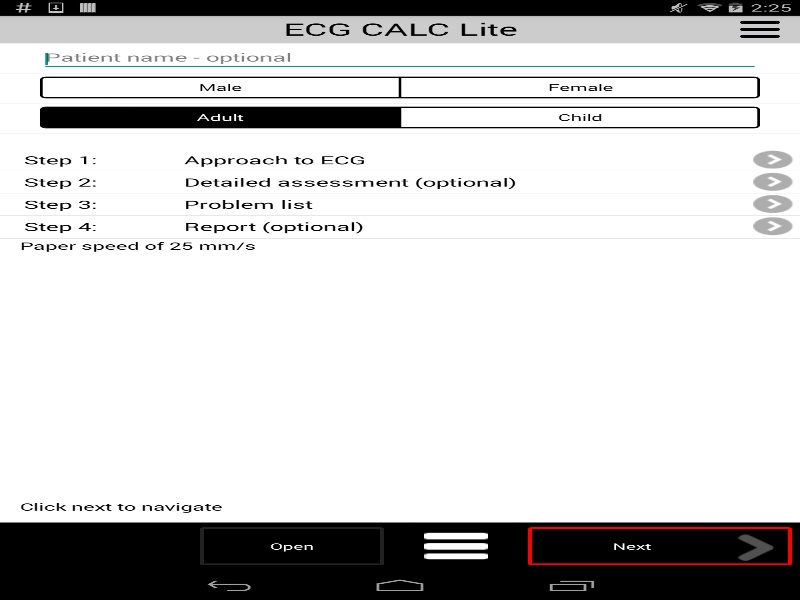Button: (40, 76, 400, 98), (400, 76, 760, 98), (40, 106, 400, 128), (400, 106, 760, 128), (200, 527, 384, 565), (533, 531, 731, 561)
Input: (40, 46, 760, 71)
